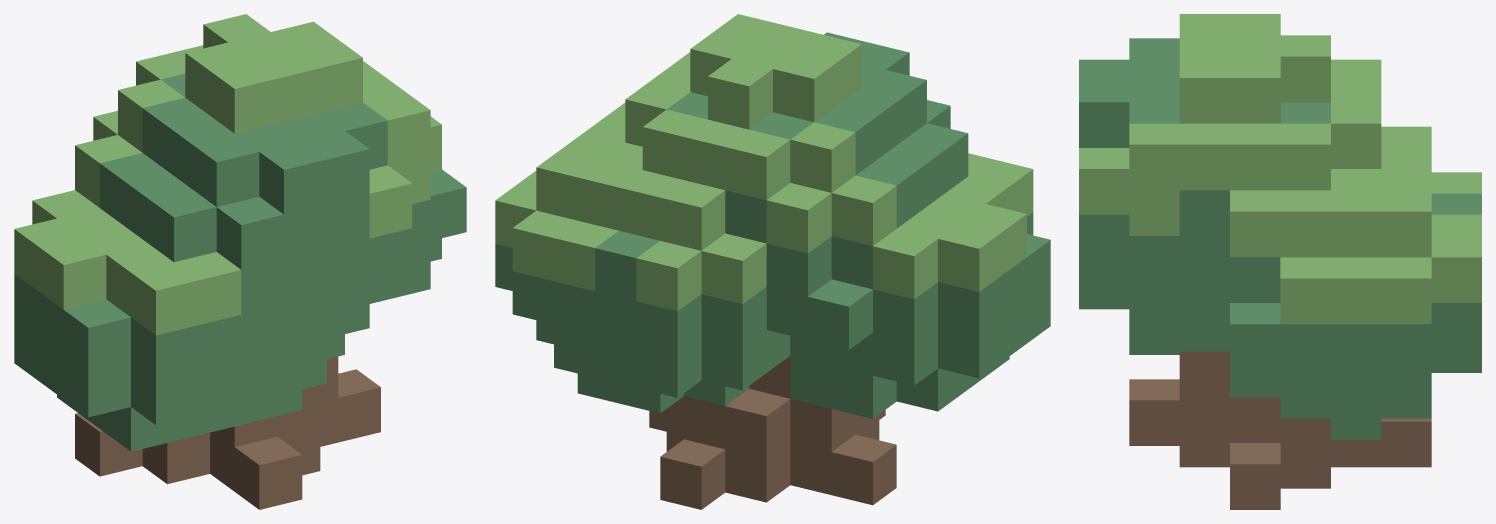
The picture shows the model from 3 angles, left to right: view 1: azimuth 30°, elevation 25°; view 2: azimuth 150°, elevation 25°; view 3: azimuth 270°, elevation 25°; orthographic projection. The views are drawn at different scales.
Visible parts, largest first — view 1: tree_oak_var_4_shrub_oak_D, tree_oak_var_4_shrub_oak_L, tree_oak_var_4_shrub_oak_W; view 2: tree_oak_var_4_shrub_oak_L, tree_oak_var_4_shrub_oak_D, tree_oak_var_4_shrub_oak_W; view 3: tree_oak_var_4_shrub_oak_L, tree_oak_var_4_shrub_oak_D, tree_oak_var_4_shrub_oak_W.
Boxes of the visible parts, x1,y1,x2,y2 form: tree_oak_var_4_shrub_oak_D: (14,73,466,451); tree_oak_var_4_shrub_oak_L: (14,14,441,335); tree_oak_var_4_shrub_oak_W: (75,356,380,509); tree_oak_var_4_shrub_oak_L: (495,14,1033,311); tree_oak_var_4_shrub_oak_D: (495,32,1050,418); tree_oak_var_4_shrub_oak_W: (649,356,896,509); tree_oak_var_4_shrub_oak_L: (1079,14,1481,324); tree_oak_var_4_shrub_oak_D: (1079,38,1481,439); tree_oak_var_4_shrub_oak_W: (1129,351,1431,509).
Bounding box in the file's own units: 1.5 × 1.35 × 1.2.
